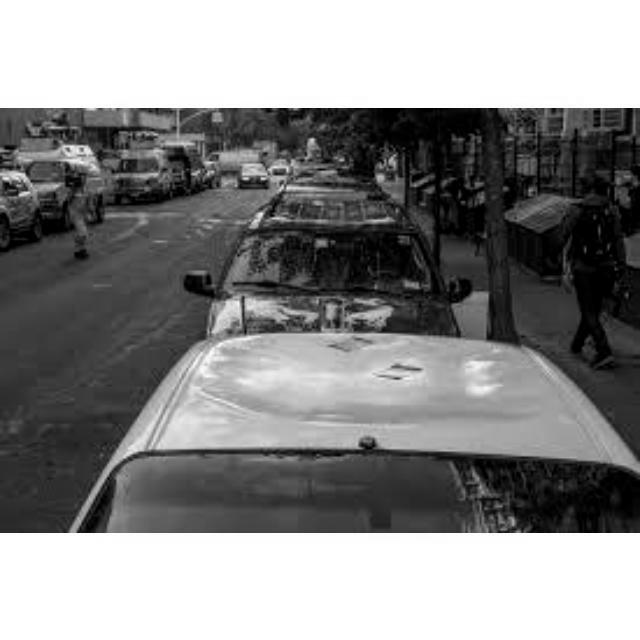roof-dent: (145, 333, 582, 451)
